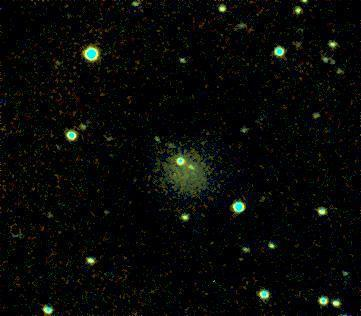star: (226, 241, 256, 271)
